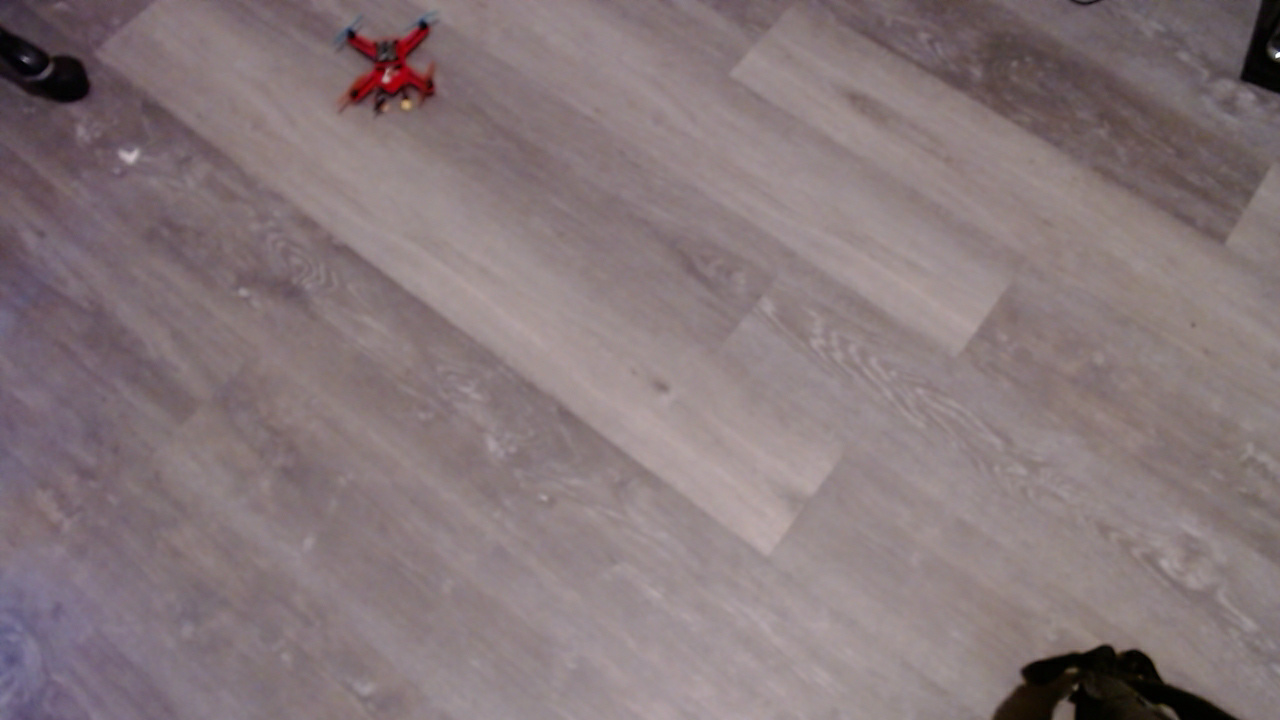crazyflie: (333, 12, 459, 127)
